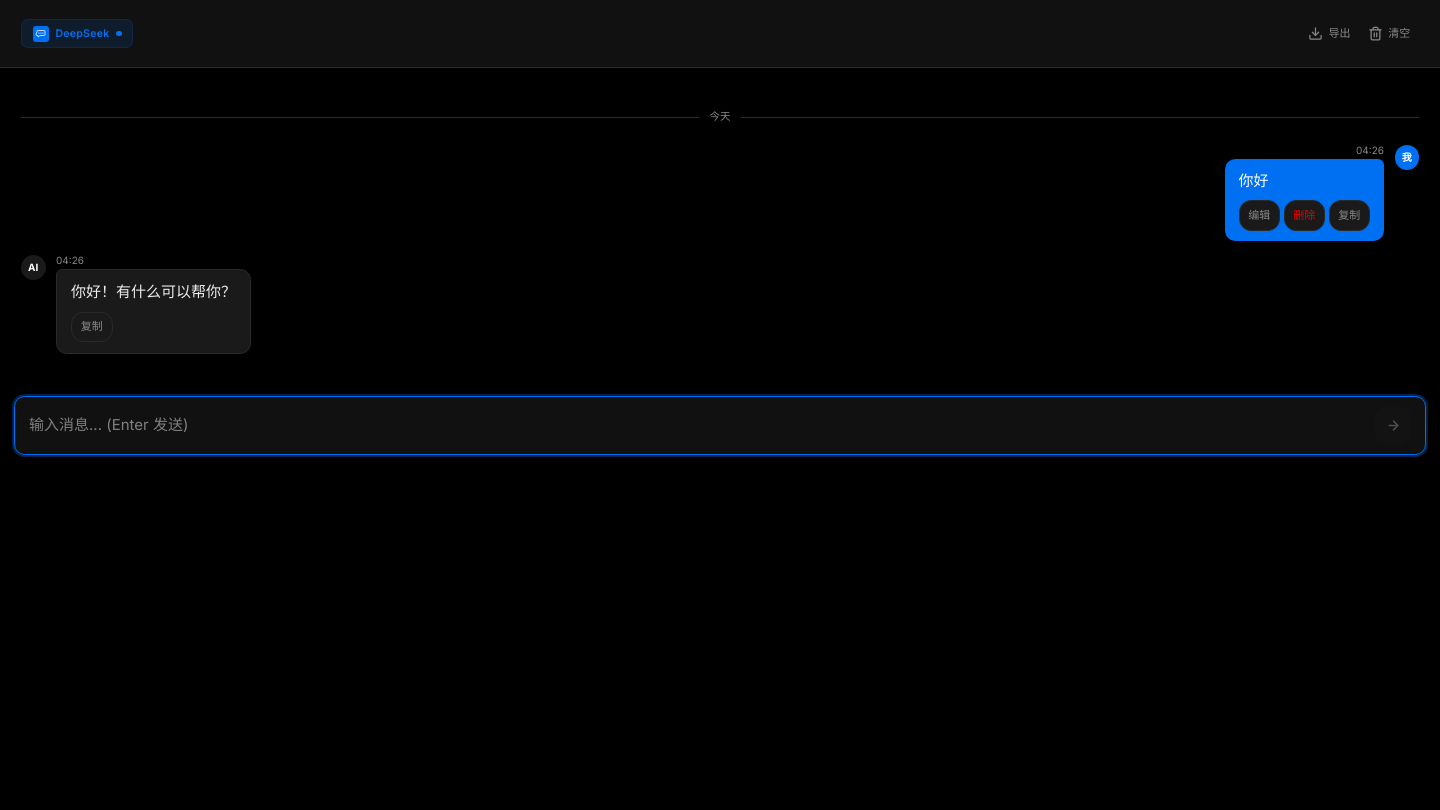
Test: chatWindow › 清空确认对话框
The width and height of the screenshot is (1440, 810).
Click the button titled "清空当前对话": (1389, 34) [1359,16,1419,51]
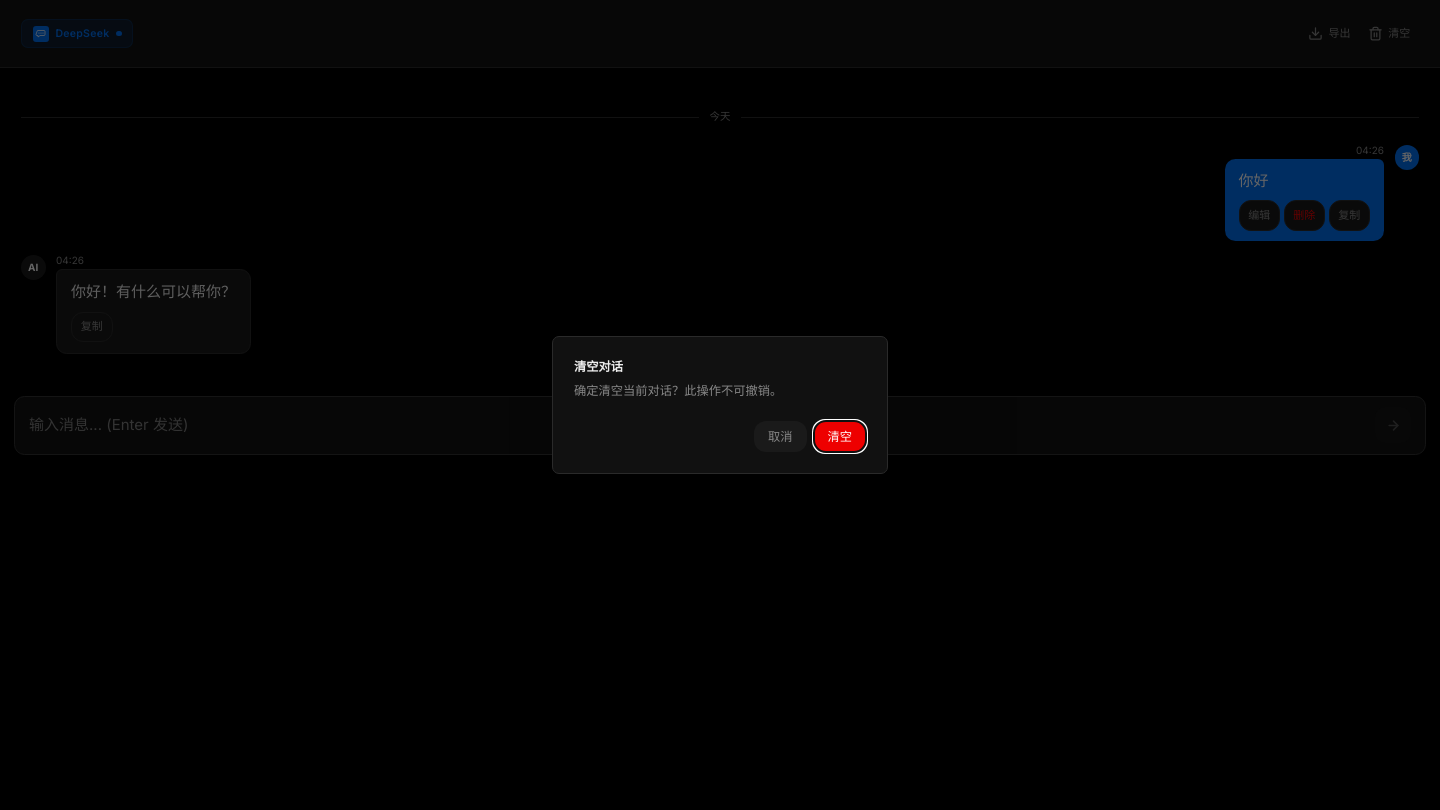
Expected: the text "确定清空当前对话？此操作不可撤销。" is shown, [574,383,782,398]
Click the button "取消": (780, 437) [754,421,806,452]
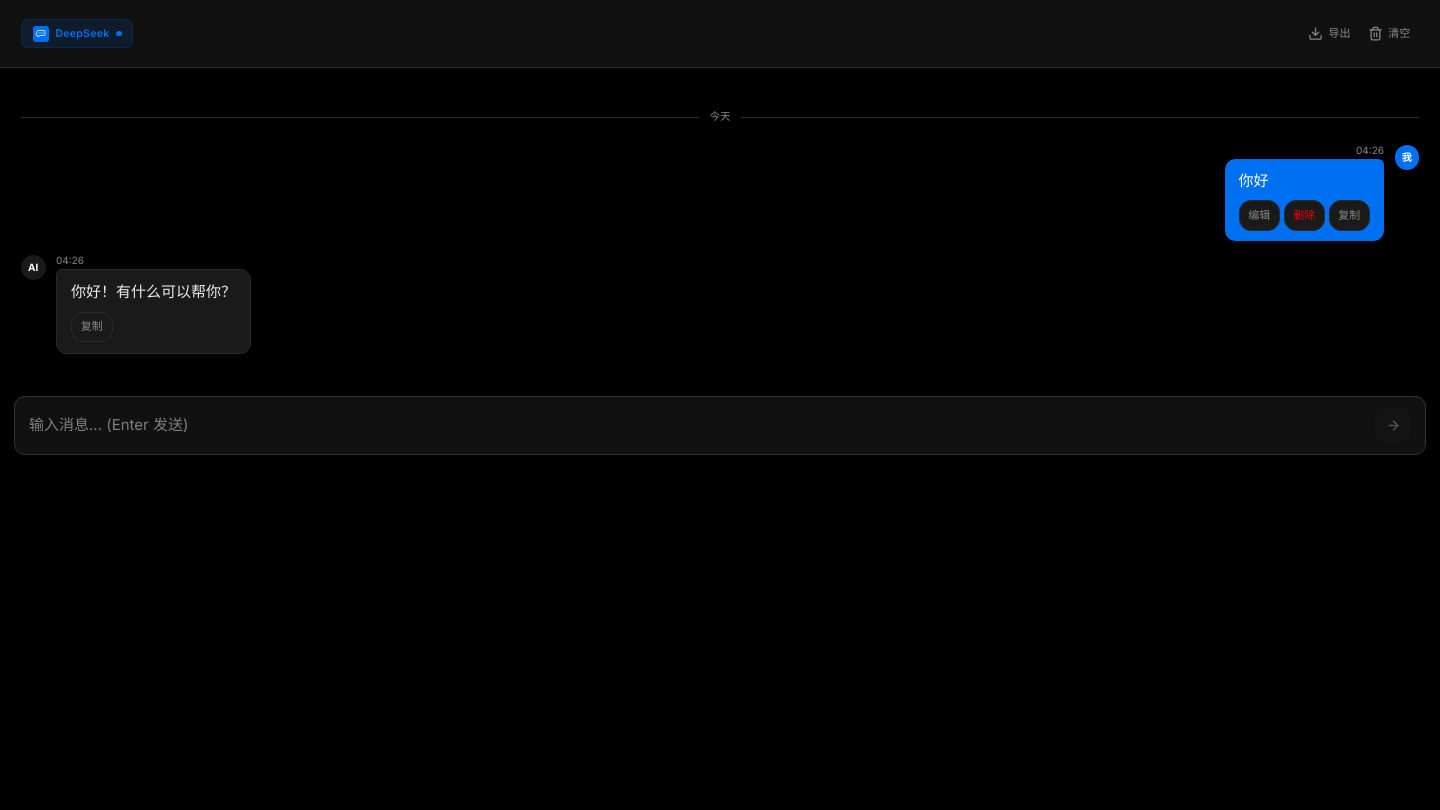
Expected: the text "确定清空当前对话？此操作不可撤销。" is gone
